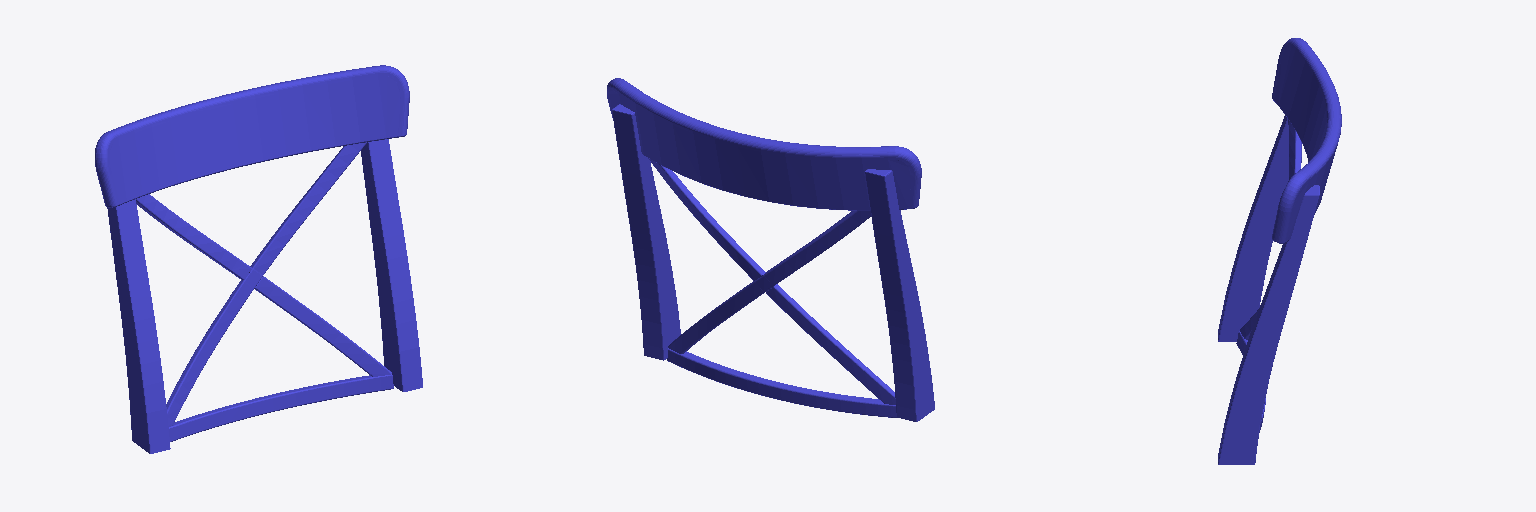
Rendered from back.obj.
3 renders of one model, left to right at view 1: azimuth 30°, elevation 25°; view 2: azimuth 150°, elevation 25°; view 3: azimuth 270°, elevation 25°, orthographic.
Parts seen in each view (by area): view 1: back; view 2: back; view 3: back.
Part boxes in pixels (bbox=[...]): back: bbox=[95, 65, 422, 453]; back: bbox=[607, 78, 934, 421]; back: bbox=[1218, 38, 1341, 464].
Size of the model in its own units: 0.7012 by 0.6409 by 0.2412.